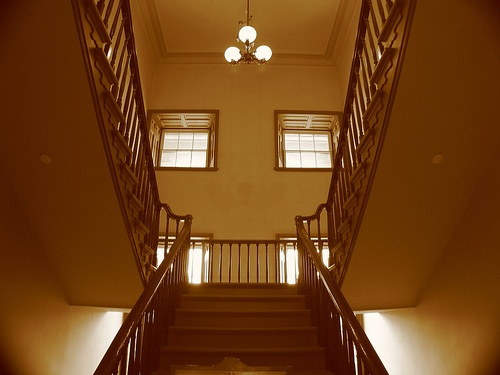stairs_up: (157, 286, 339, 375)
